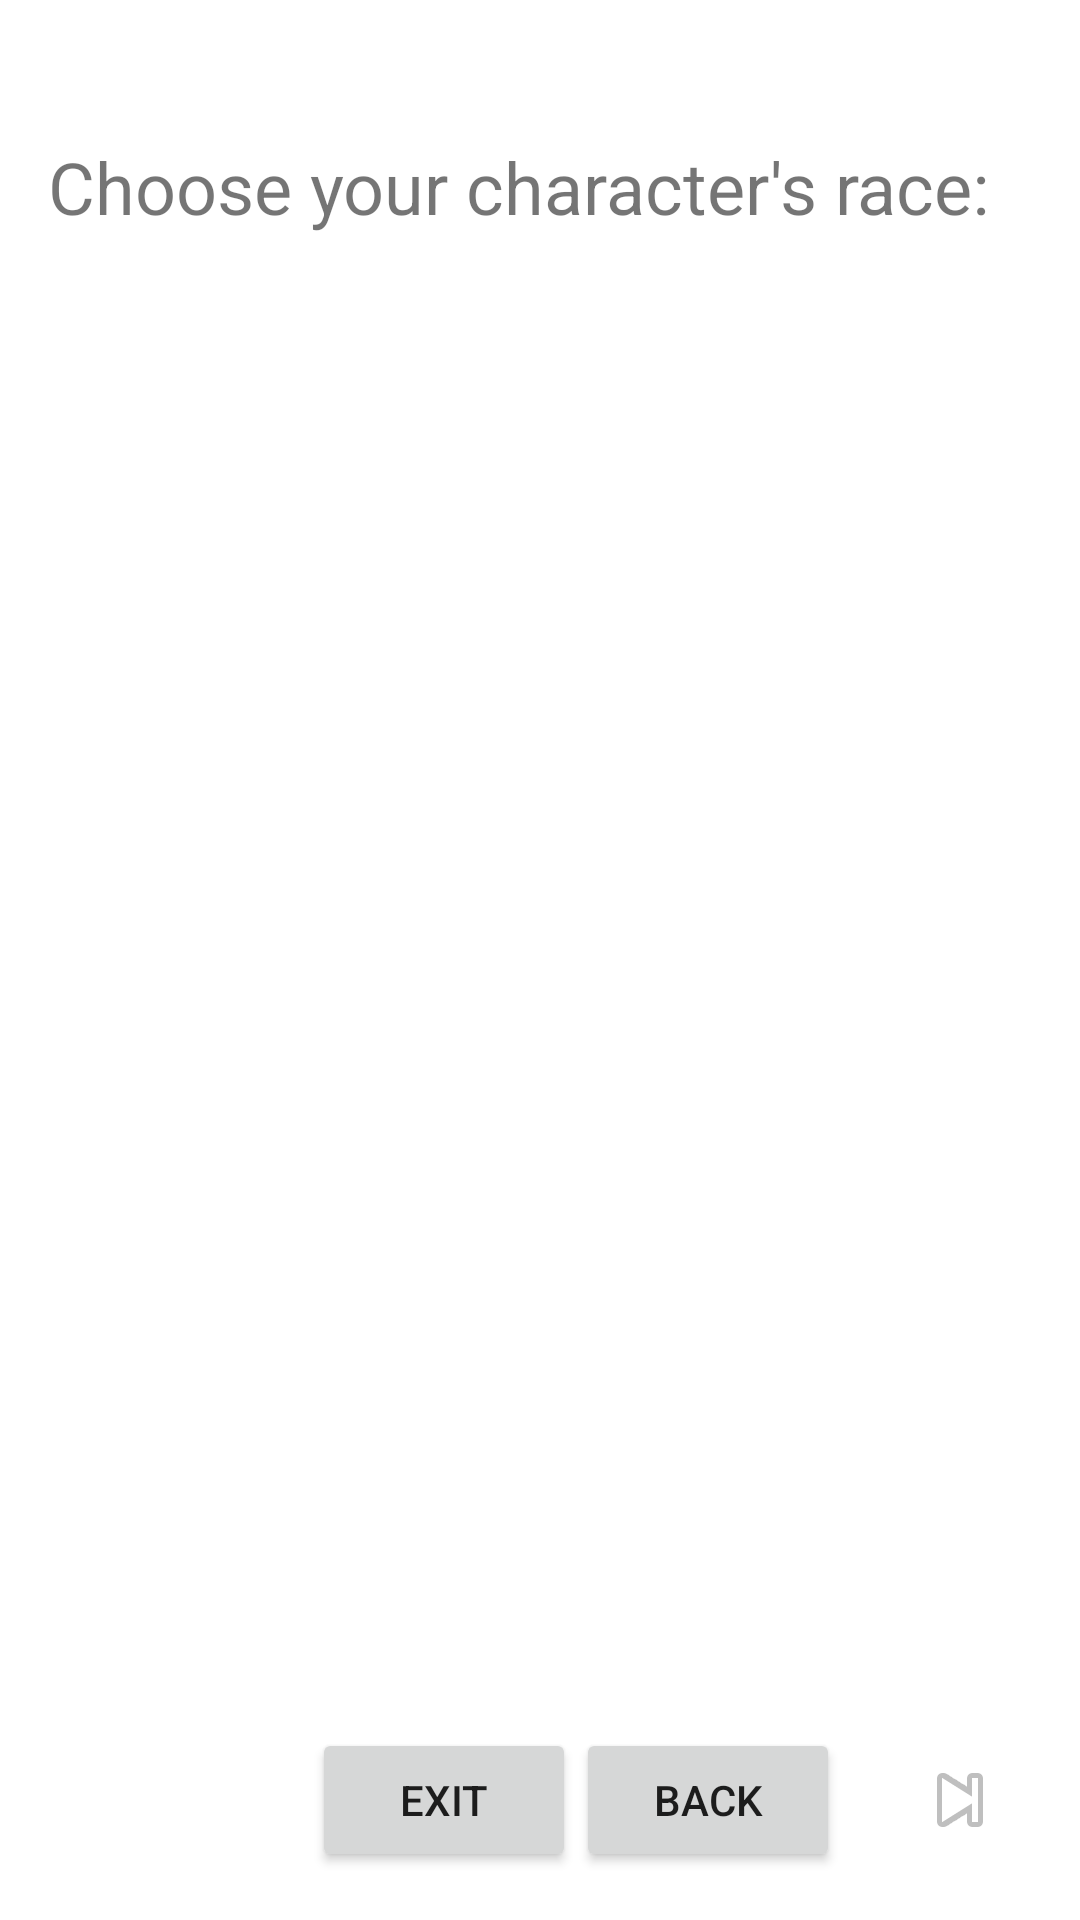

Icons on this 1080px×1920px Android screen, each with its box as (x1, y1, x2, y2):
Next: (937, 1773, 983, 1827)
